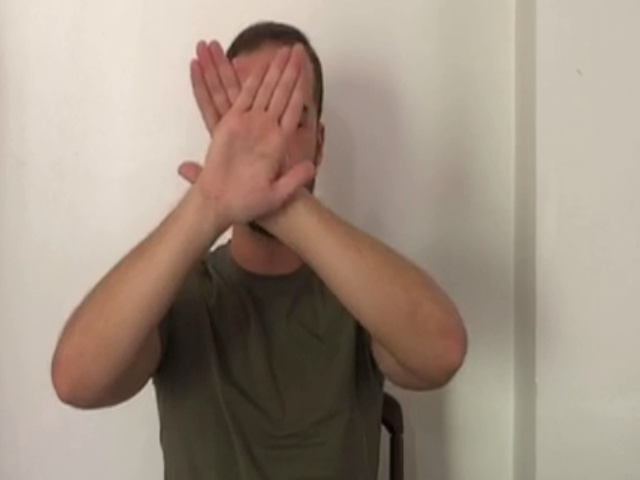Stemneto: (174, 34, 319, 227)
